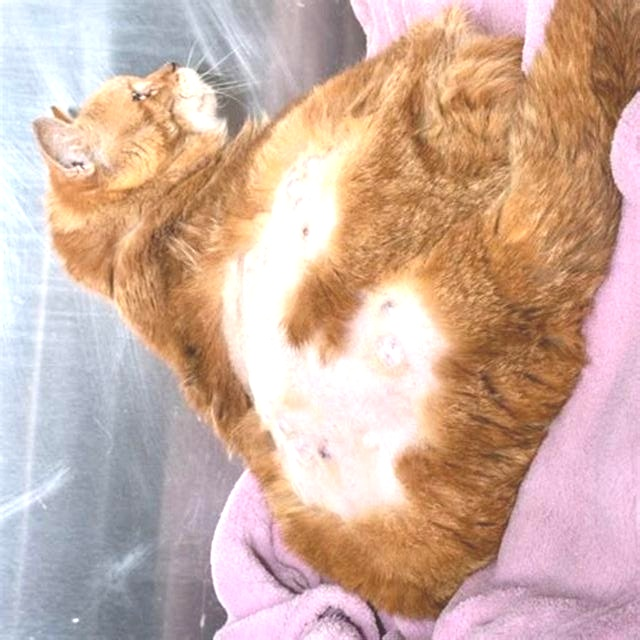hairloss: (216, 169, 407, 495)
